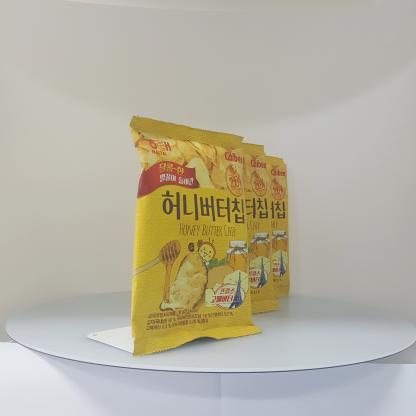Plastic Packaging: (120, 115, 244, 362)
